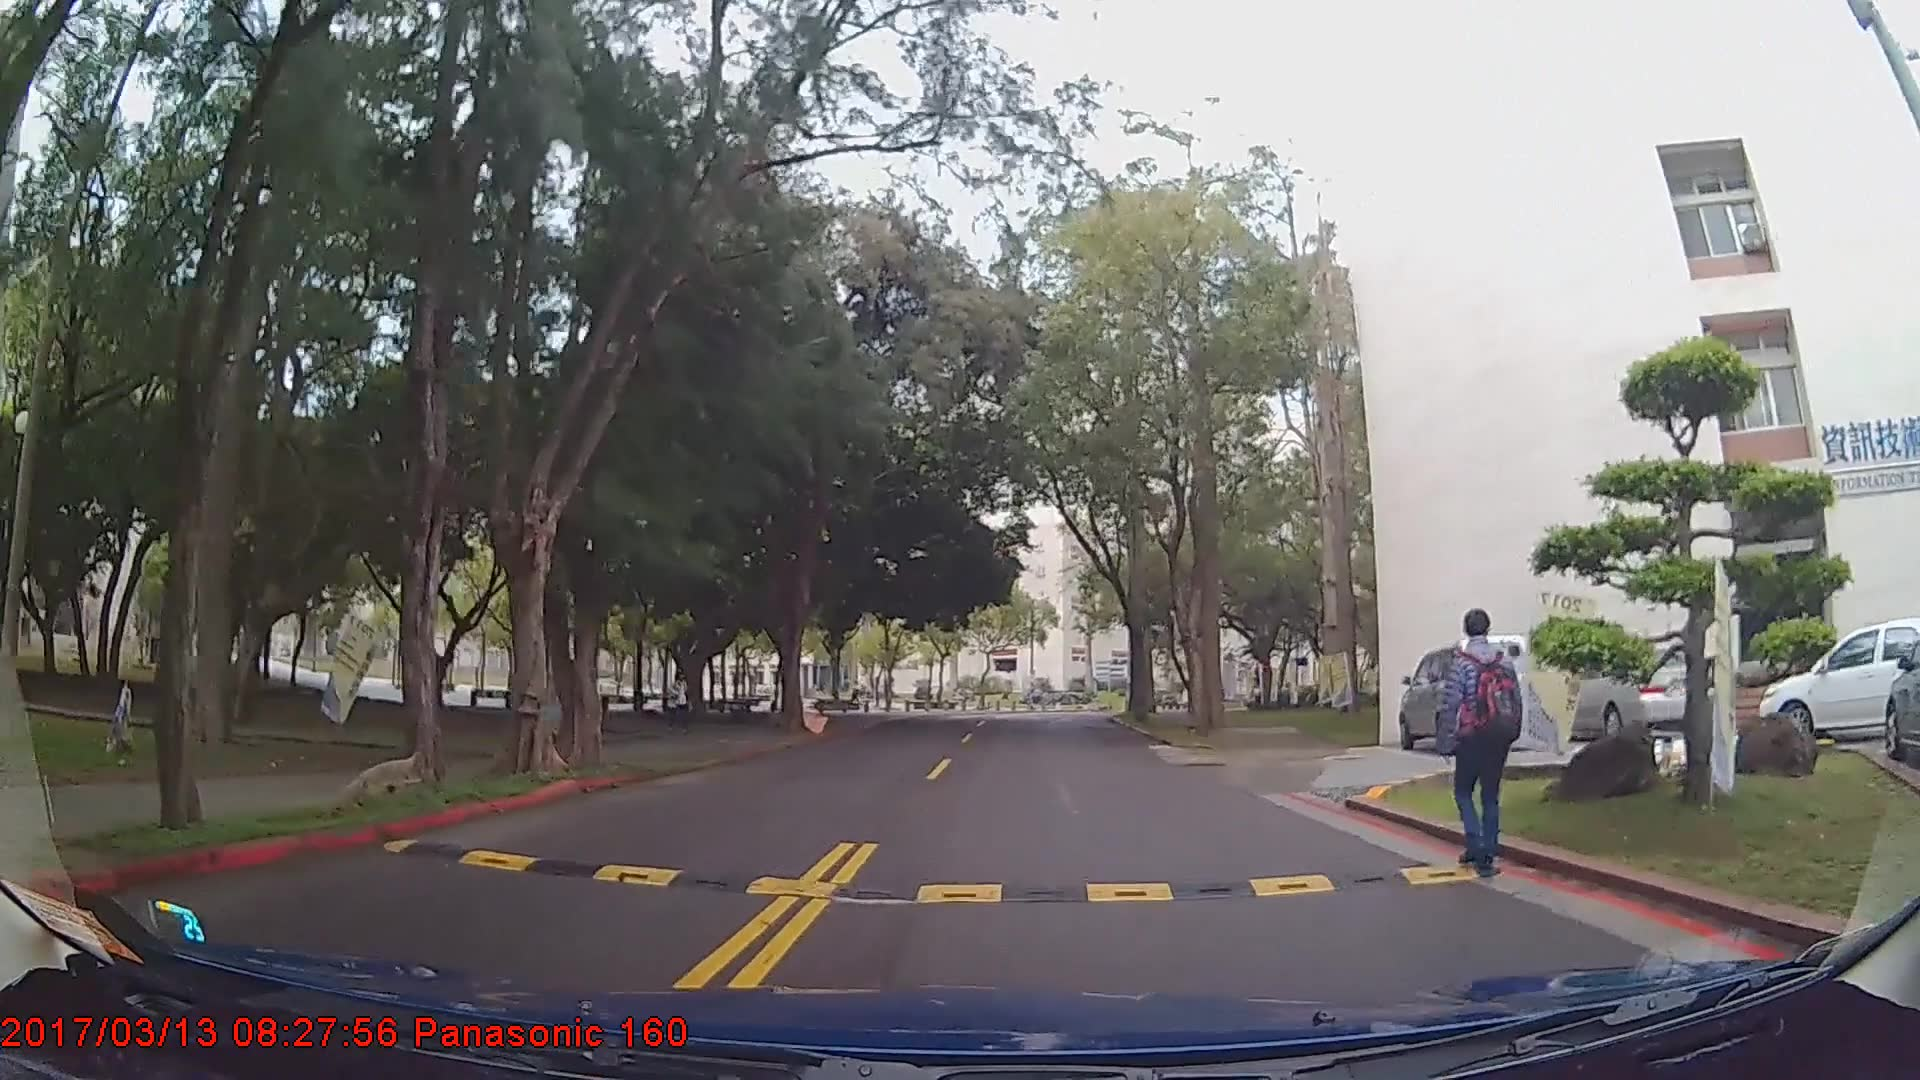pedestrian: (1441, 607, 1522, 878), (665, 667, 695, 733)
vehicle: (1753, 616, 1920, 745), (1398, 635, 1533, 751)
